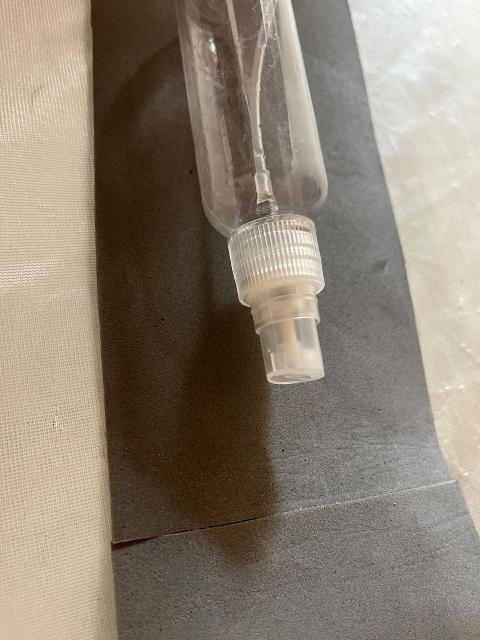PET: (170, 0, 352, 416)
